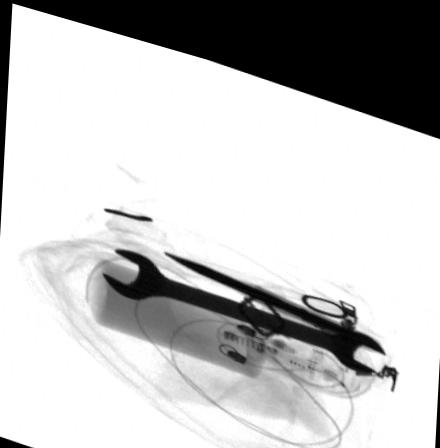Pliers: (159, 240, 380, 331)
Wrench: (100, 241, 388, 351)
